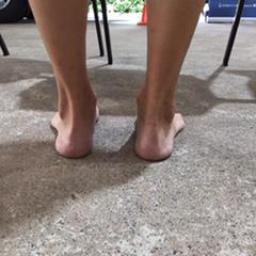Back View -Both Feet-: (40, 49, 198, 173)
